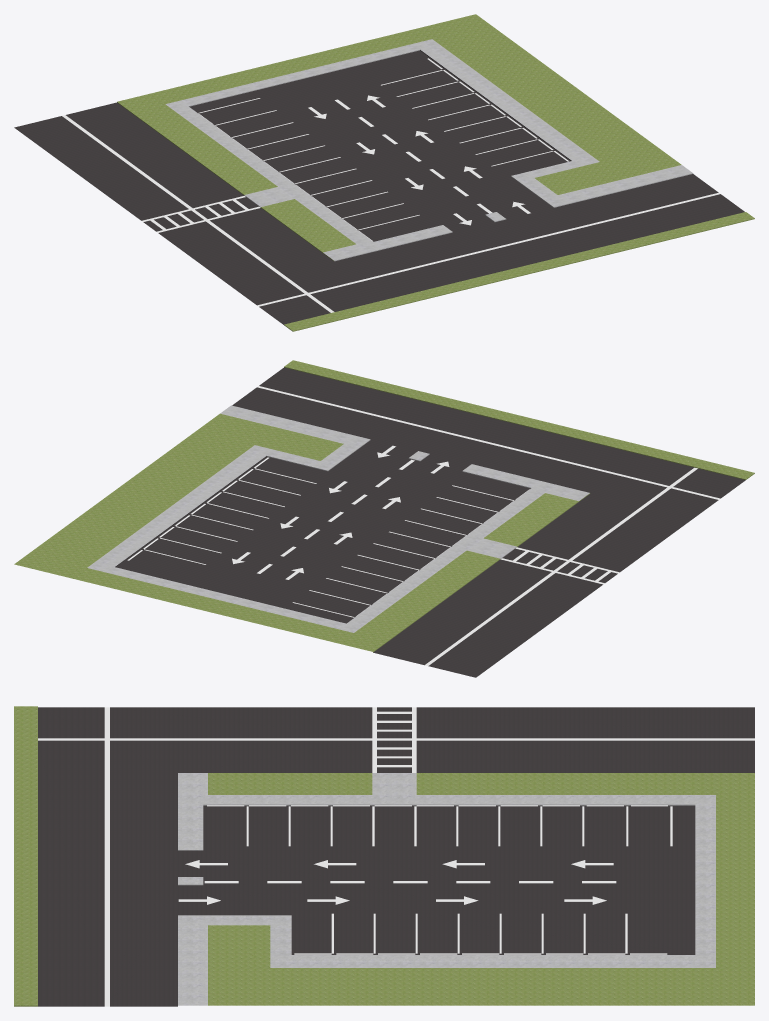
Rendered from parking.glb.
The picture shows the model from 3 angles, top to bottom: view 1: azimuth 30°, elevation 25°; view 2: azimuth 150°, elevation 25°; view 3: azimuth 270°, elevation 25°; orthographic projection. The views are drawn at different scales.
Parts seen in each view (by area): view 1: Material3.001, Material3.002, Material3.003, Material3; view 2: Material3.001, Material3.002, Material3.003, Material3; view 3: Material3.001, Material3.002, Material3.003, Material3.
Boxes of the visible parts, left/top/right/bottom form: Material3.001: left=14, top=50, right=744, bottom=324; Material3.002: left=117, top=14, right=754, bottom=331; Material3.003: left=165, top=39, right=693, bottom=261; Material3: left=62, top=115, right=719, bottom=312; Material3.001: left=115, top=367, right=745, bottom=677; Material3.002: left=14, top=360, right=754, bottom=652; Material3.003: left=87, top=405, right=589, bottom=632; Material3: left=257, top=386, right=720, bottom=665; Material3.001: left=38, top=707, right=754, bottom=1006; Material3.002: left=14, top=706, right=754, bottom=1006; Material3.003: left=178, top=773, right=715, bottom=1005; Material3: left=38, top=707, right=754, bottom=1006.
Bounding box in the file's own units: 589 × 0.8702 × 616.
Materials: 5 (3 with a texture image).
